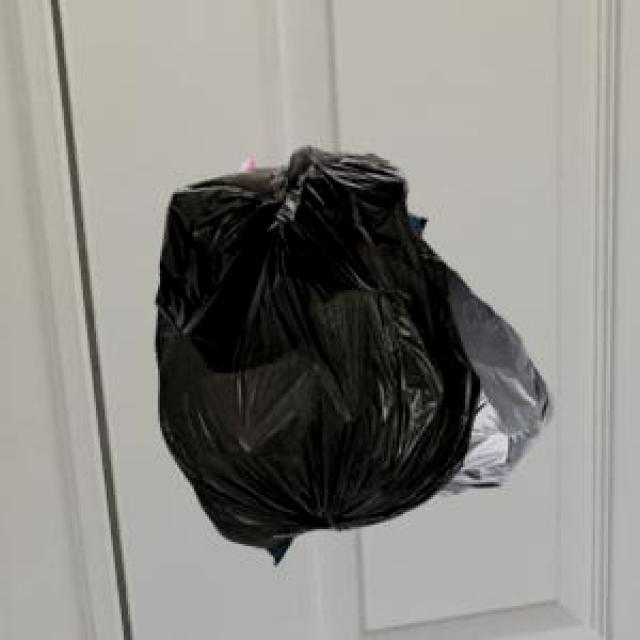Trashbag: (148, 135, 486, 559)
